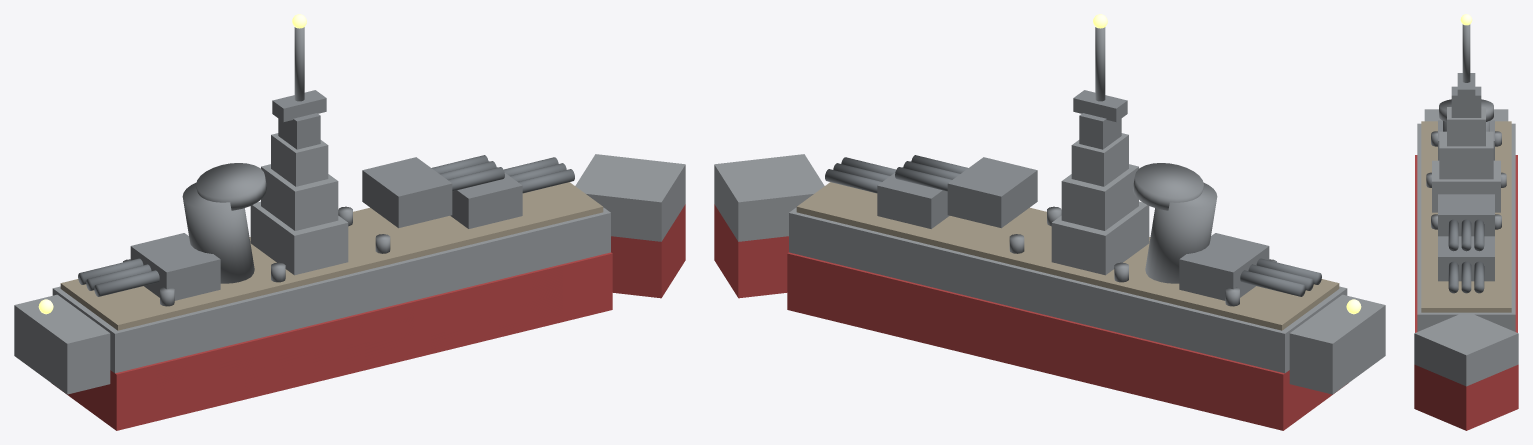
Rendered from battleship.glb.
The picture shows the model from 3 angles, left to right: view 1: azimuth 30°, elevation 25°; view 2: azimuth 150°, elevation 25°; view 3: azimuth 270°, elevation 25°; orthographic projection. The views are drawn at different scales.
Visible parts, largest first — view 1: battleship; view 2: battleship; view 3: battleship.
Part boxes in pixels (x1,y1,x2,y2): battleship: (14, 14, 685, 430); battleship: (714, 14, 1385, 430); battleship: (1414, 14, 1518, 430).
Bounding box in the file's own units: 0.599 × 0.301 × 0.1061.
